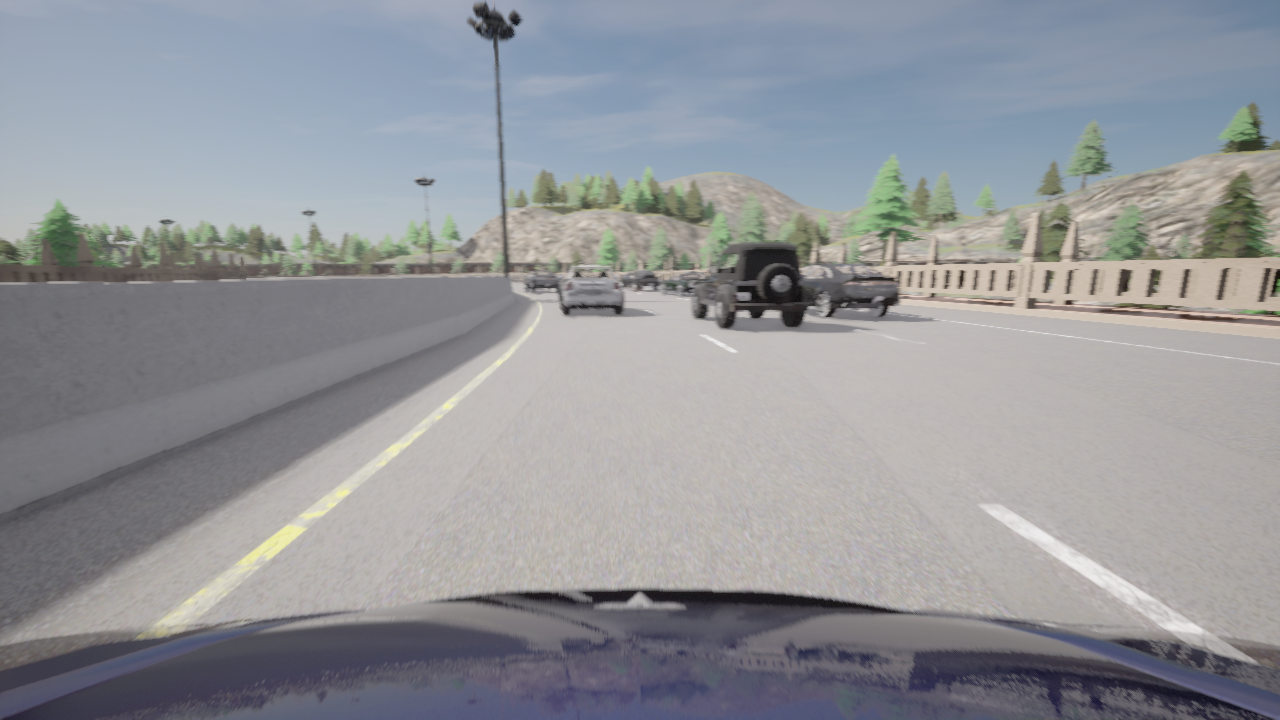cyclist: (0, 588, 1279, 719), (692, 242, 809, 328), (801, 263, 899, 317), (558, 265, 624, 315), (660, 272, 707, 296), (619, 270, 659, 290), (524, 270, 559, 292)
